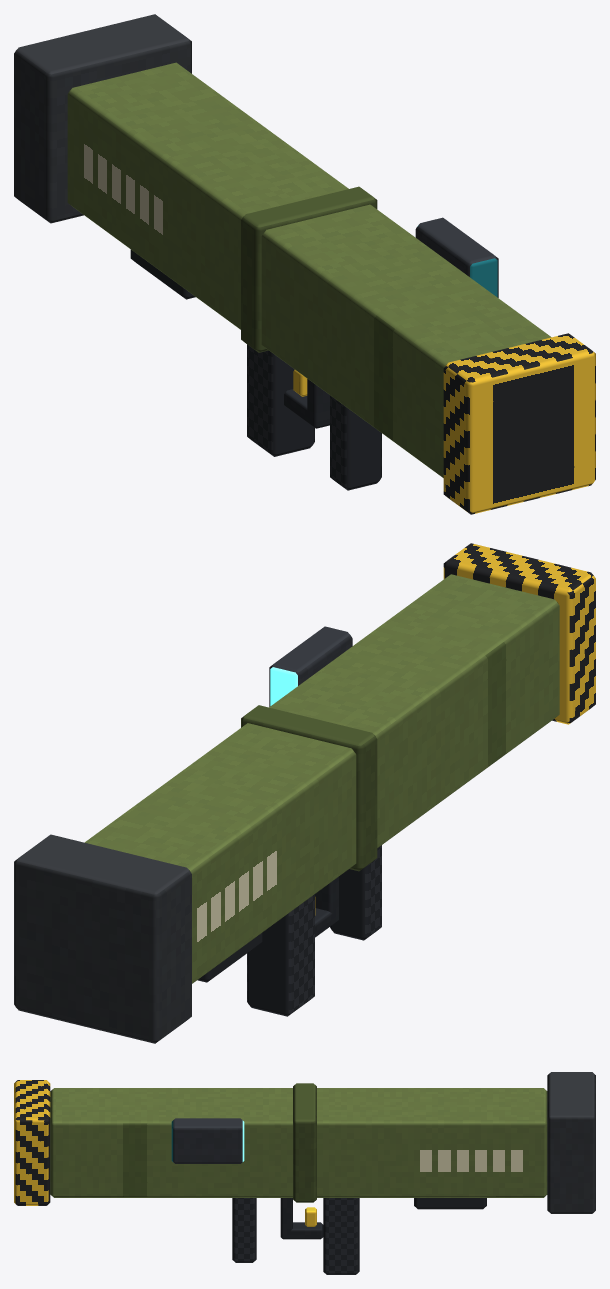
Rendered from weapon_launcher.glb.
3 renders of one model, top to bottom at view 1: azimuth 30°, elevation 25°; view 2: azimuth 150°, elevation 25°; view 3: azimuth 270°, elevation 25°, orthographic. The views are drawn at different scales.
Parts seen in each view (by area): view 1: Launcher_Body; view 2: Launcher_Body; view 3: Launcher_Body.
Boxes of the visible parts, x1=… form: Launcher_Body: x1=14, y1=14, x2=595, y2=514; Launcher_Body: x1=14, y1=543, x2=595, y2=1043; Launcher_Body: x1=14, y1=1072, x2=595, y2=1274.
Size of what is drawn, in the model's own units: 0.2 by 0.32 by 0.96.
Materials: 1 (1 with a texture image).
